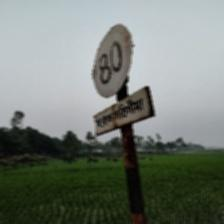Speed-limit: (90, 21, 154, 135)
